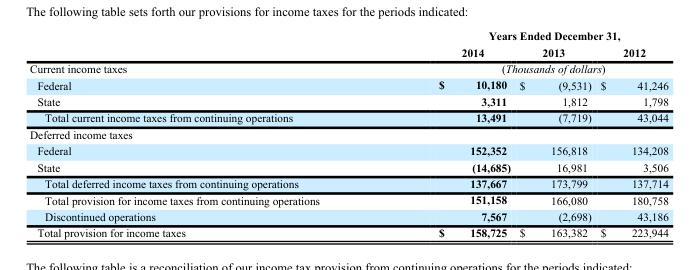table: (28, 29, 667, 238)
table column: (28, 29, 378, 238), (378, 29, 514, 238), (514, 29, 595, 238), (595, 29, 667, 238)
table column header: (28, 29, 667, 60)
table projected row header: (28, 125, 667, 142)
table row: (28, 43, 667, 60), (28, 92, 667, 109), (28, 125, 667, 142), (28, 158, 667, 175), (28, 207, 667, 224), (28, 60, 667, 76), (28, 76, 667, 92), (28, 109, 667, 125), (28, 142, 667, 158), (28, 175, 667, 191), (28, 191, 667, 207), (28, 29, 667, 43), (28, 224, 667, 238)
table spanning cell: (378, 60, 667, 76), (378, 29, 667, 43)
